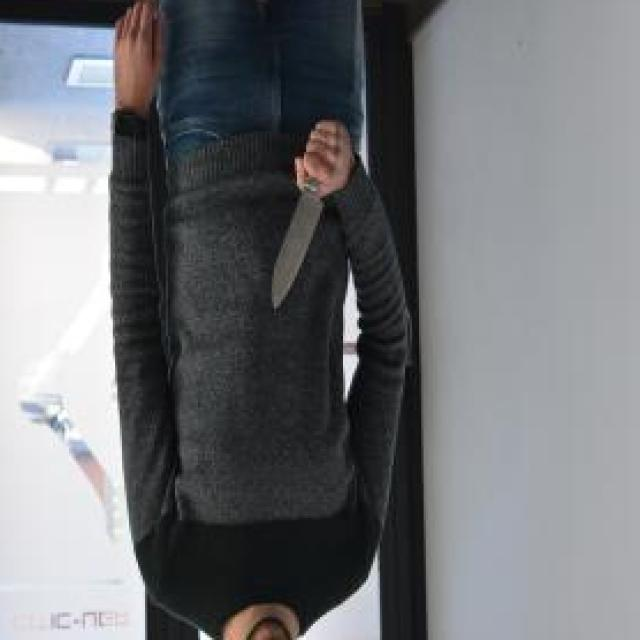knife: (267, 170, 327, 318)
